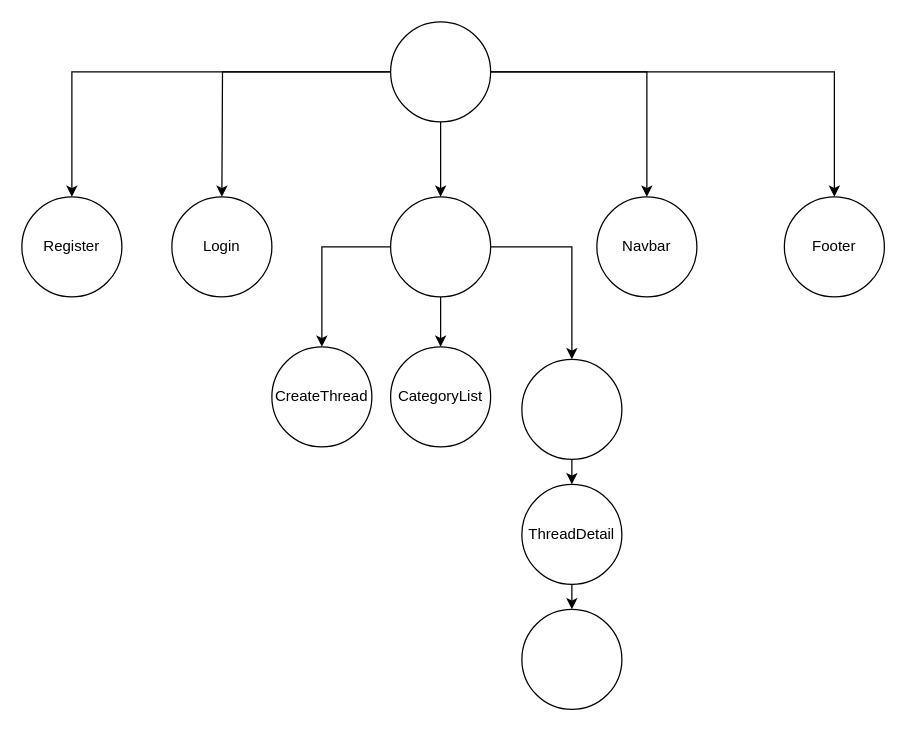
Some shapes in this 906 by 731 pixel diagram are drawn without their labels. The centre of each missing label's shape, as x and y in pixels:
App: the point at 440,71
Home: the point at 440,246
ReplyModal: the point at 571,658
ThreadList: the point at 571,408
